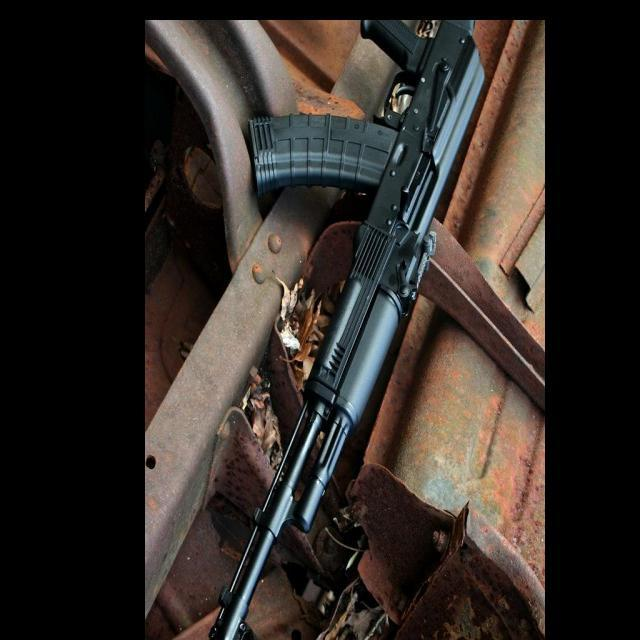weapon: (208, 22, 488, 640)
